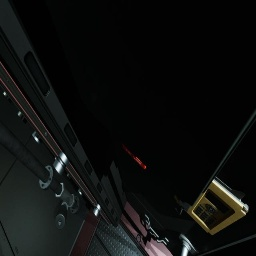EmergencyPhone ,: (170, 170, 250, 235)
FireAlarm ,: (122, 143, 146, 169)
